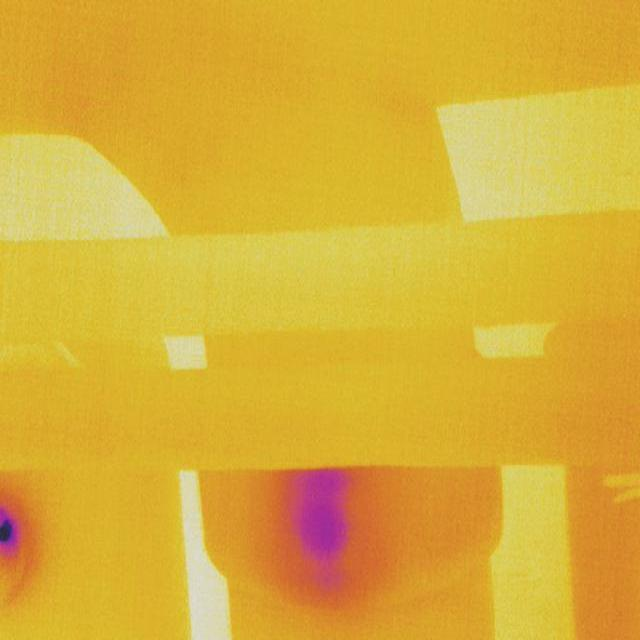leakage: (282, 467, 367, 602), (0, 510, 21, 552)
